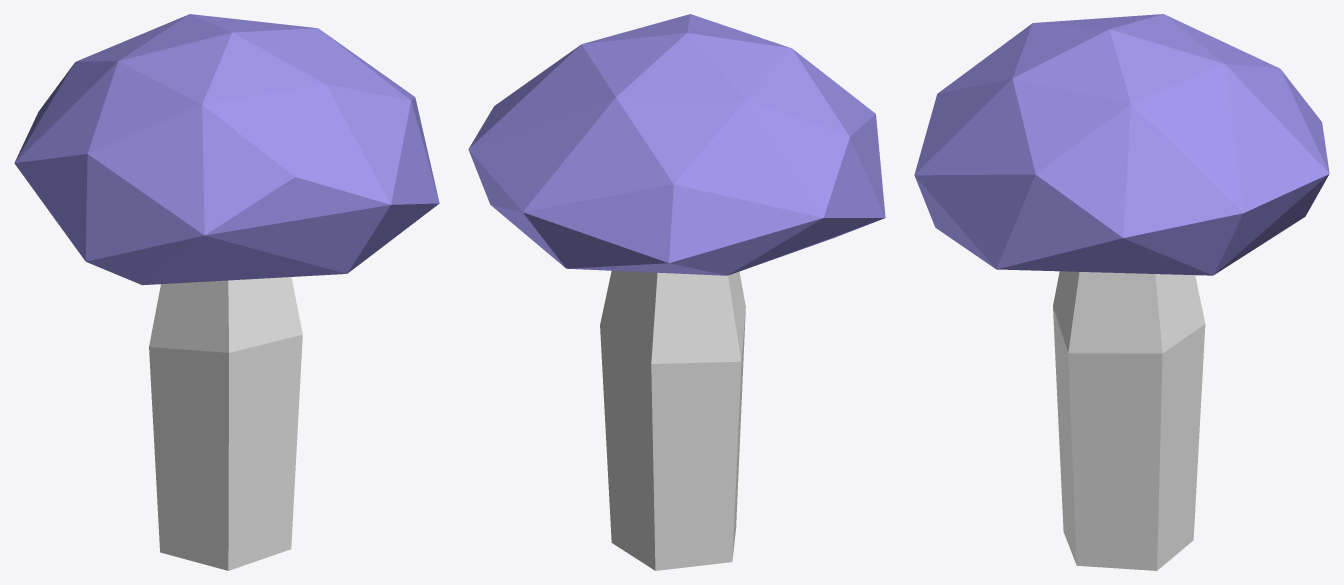
File: mushroom5.fbx
3 views of the same model, side by side, from view 1: azimuth 30°, elevation 25°; view 2: azimuth 150°, elevation 25°; view 3: azimuth 270°, elevation 25° (orthographic).
Parts seen in each view (by area): view 1: Mushroom_k_02; view 2: Mushroom_k_02; view 3: Mushroom_k_02.
Part boxes in pixels (<box>): Mushroom_k_02: <box>14,14,439,570</box>; Mushroom_k_02: <box>468,14,885,570</box>; Mushroom_k_02: <box>914,14,1329,570</box>.
Size of the model in its own units: 25.04 by 25.68 by 34.31.
1 material, 1 textured.
